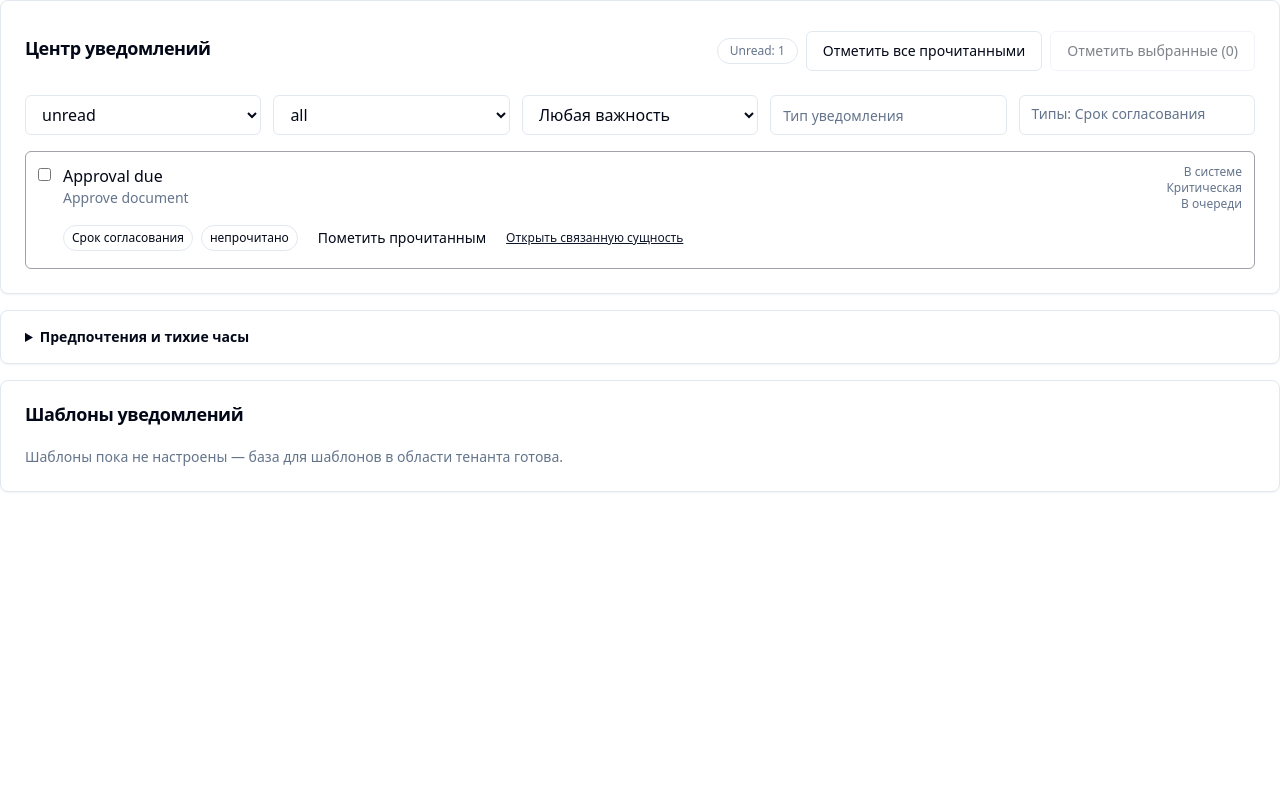
Scenario: NotificationsPage › shows action error and keeps notifications list visible when mark-read fails
The image size is (1280, 800).
Check: the text "Approval due" is shown, box [63,165,163,187]
Click the button "Отметить все прочитанными": x=924, y=51 [806,31,1042,71]
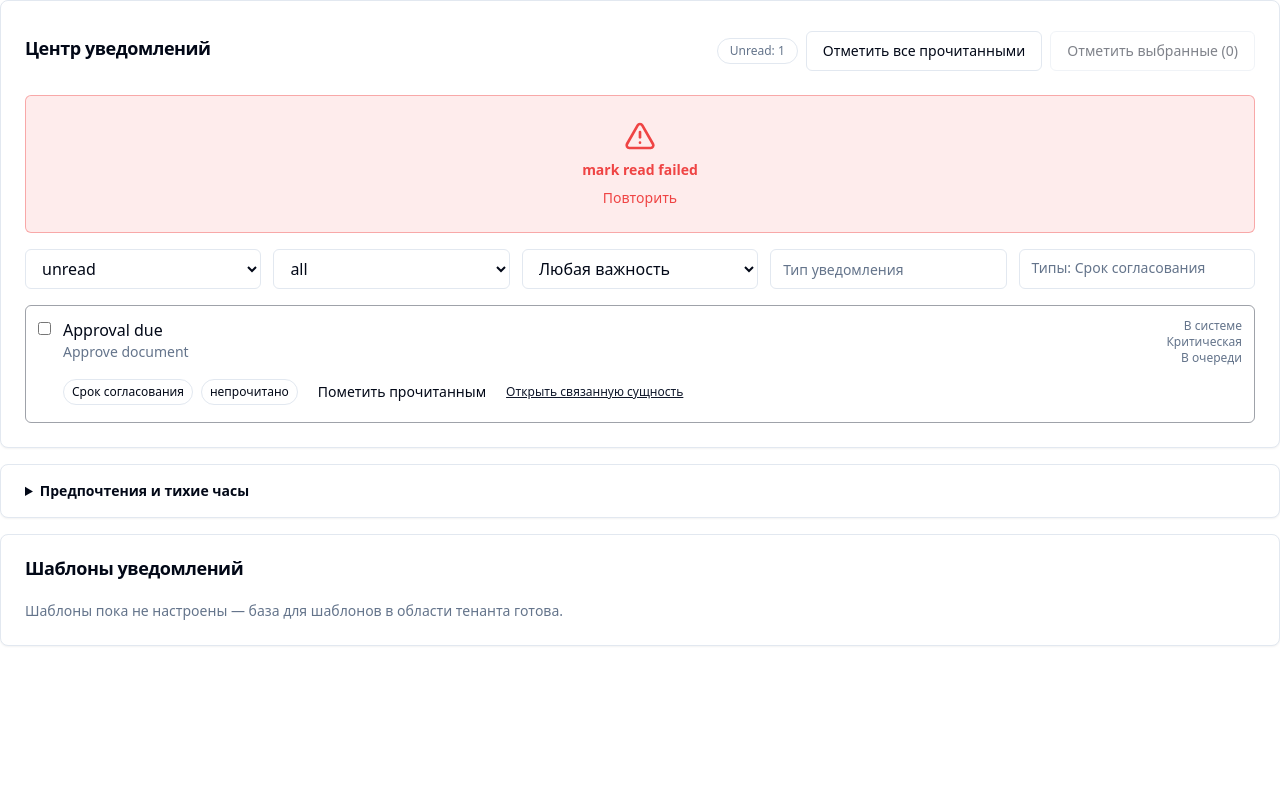
Check: the text "Approval due" is shown, box [63,319,163,341]
Check: the message shows "mark read failed", box [582,160,698,179]
